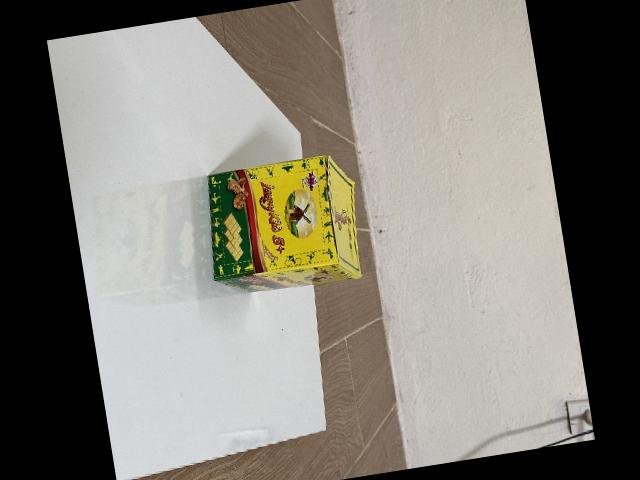luong_kho: (205, 155, 360, 293)
